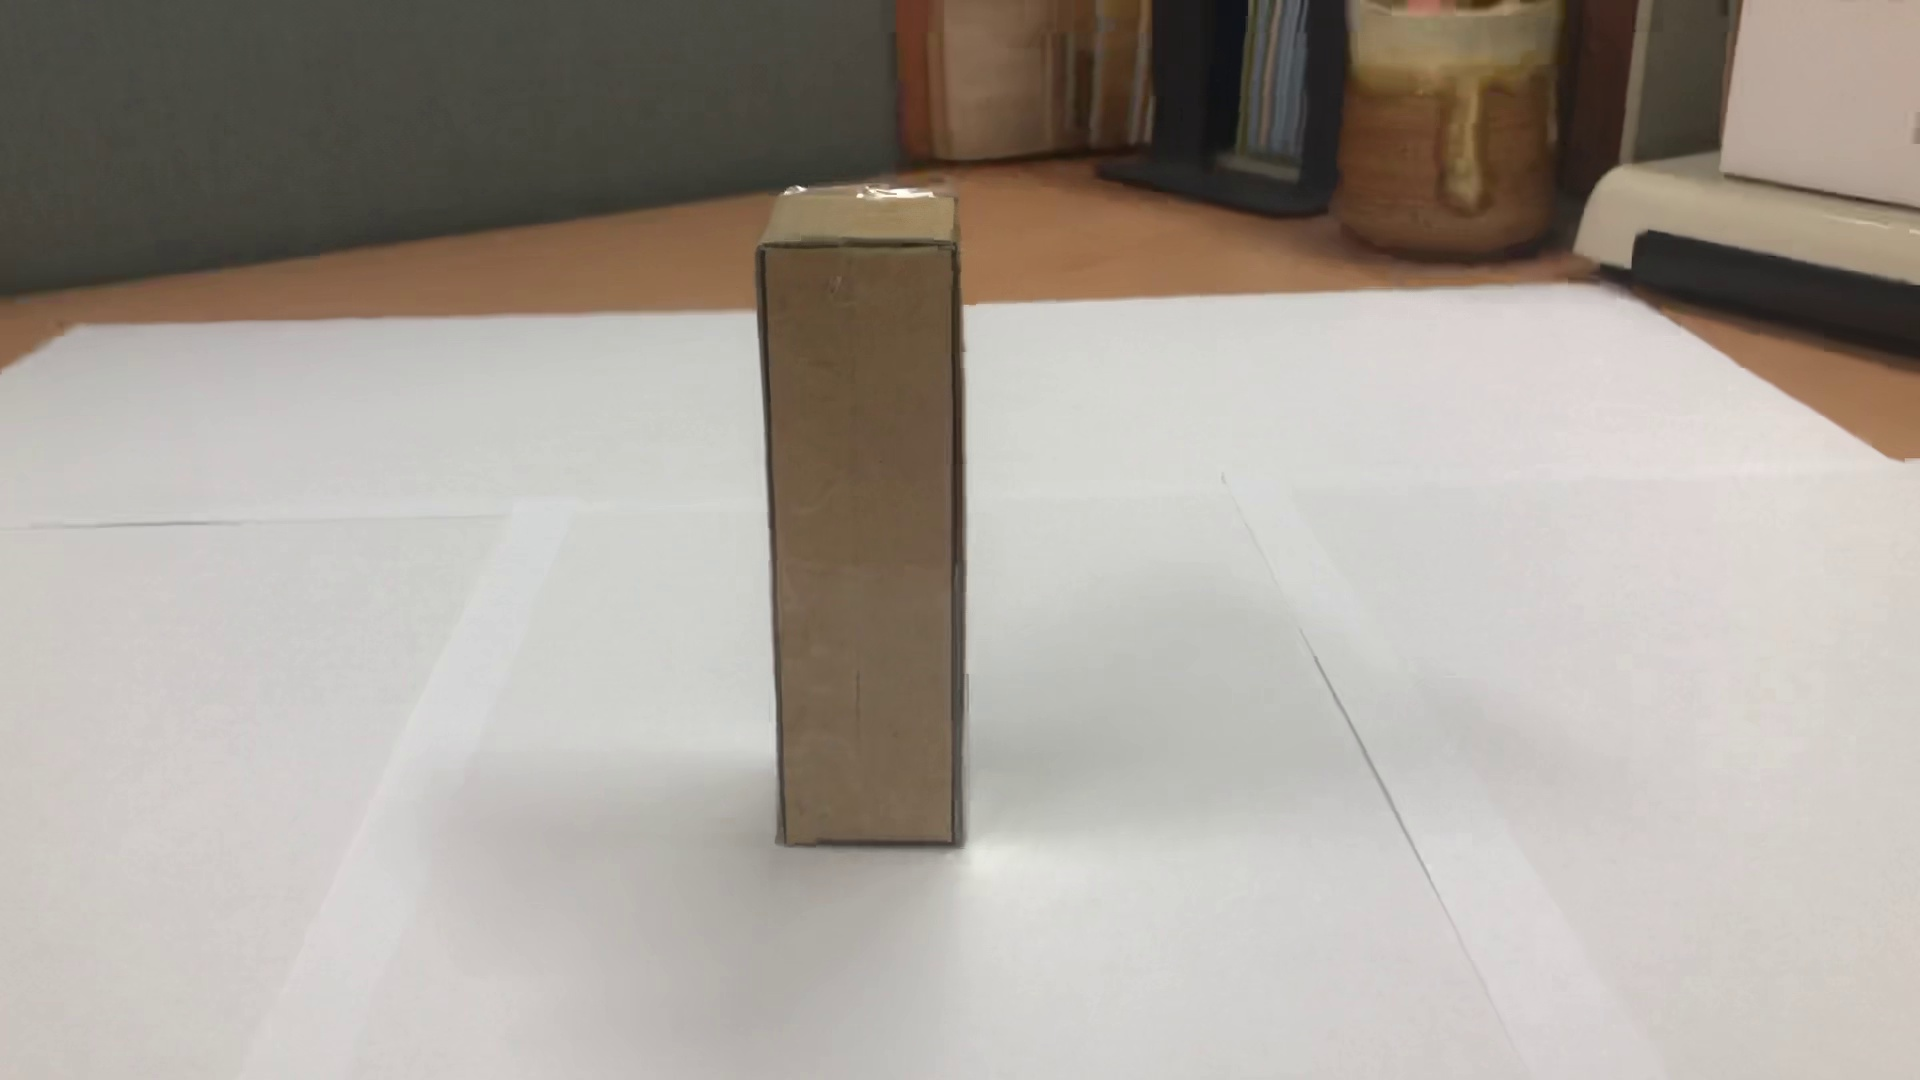box: (735, 156, 1022, 873)
